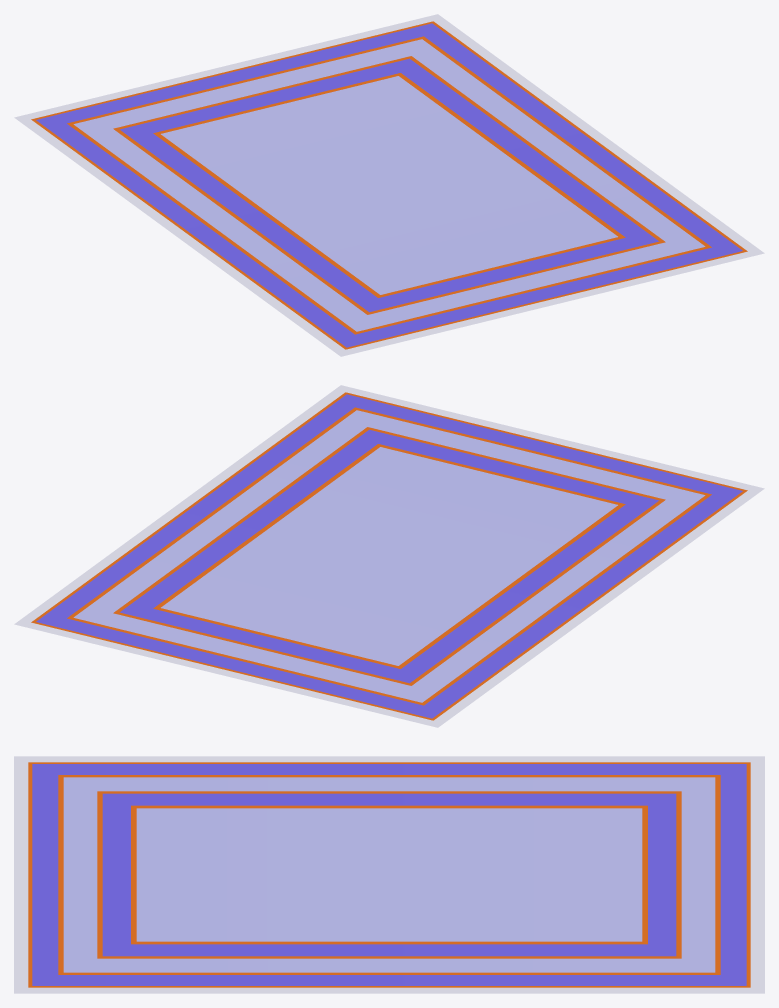
The model's file is tham.fbx.
The picture shows the model from 3 angles, top to bottom: view 1: azimuth 30°, elevation 25°; view 2: azimuth 150°, elevation 25°; view 3: azimuth 270°, elevation 25°; orthographic projection. The views are drawn at different scales.
Visible parts, largest first — view 1: tham; view 2: tham; view 3: tham.
Part boxes in pixels (x1=…): tham: x1=14, y1=14, x2=764, y2=356; tham: x1=14, y1=385, x2=764, y2=727; tham: x1=14, y1=756, x2=764, y2=993.
Size of the model in its own units: 1041 by 0 by 1391.
